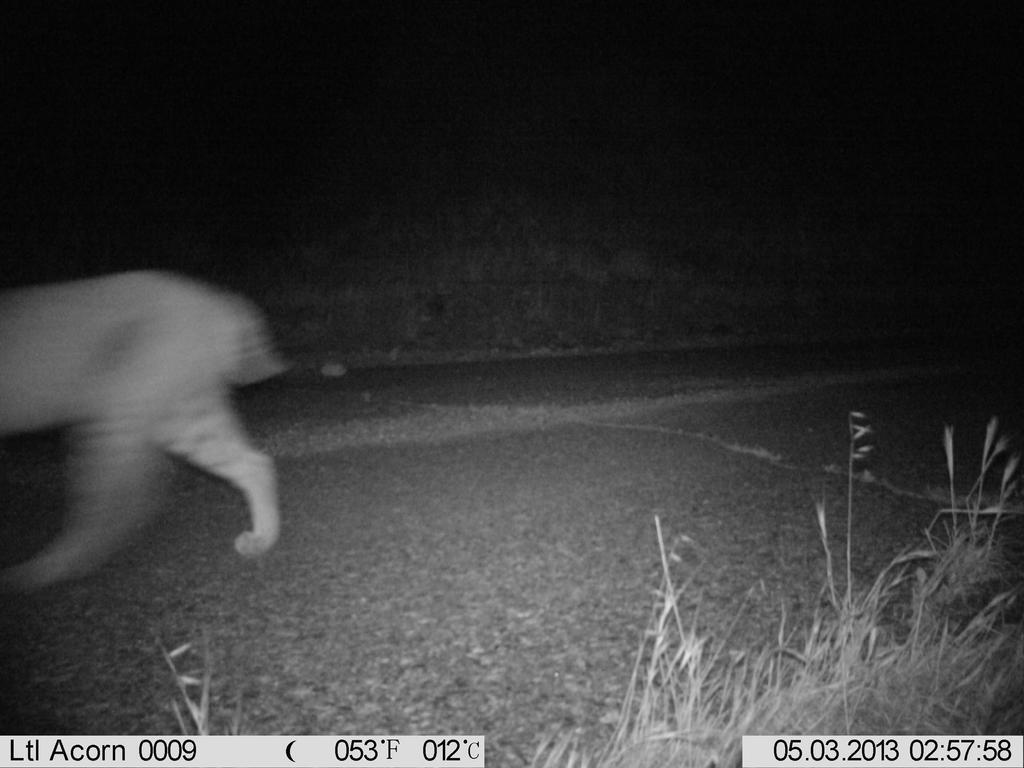bobcat: (4, 258, 304, 612)
